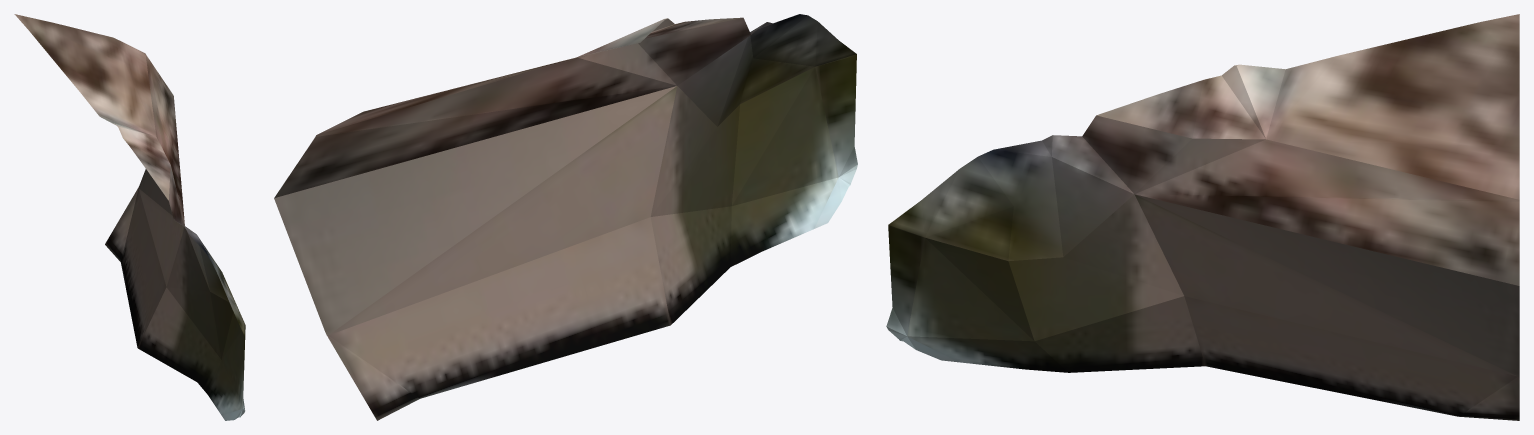
3 renders of one model, left to right at view 1: azimuth 30°, elevation 25°; view 2: azimuth 150°, elevation 25°; view 3: azimuth 270°, elevation 25°, orthographic. The views are drawn at different scales.
Size of the model in its own units: 0.5612 by 0.8495 by 1.41.
Materials: 1 (1 with a texture image).
